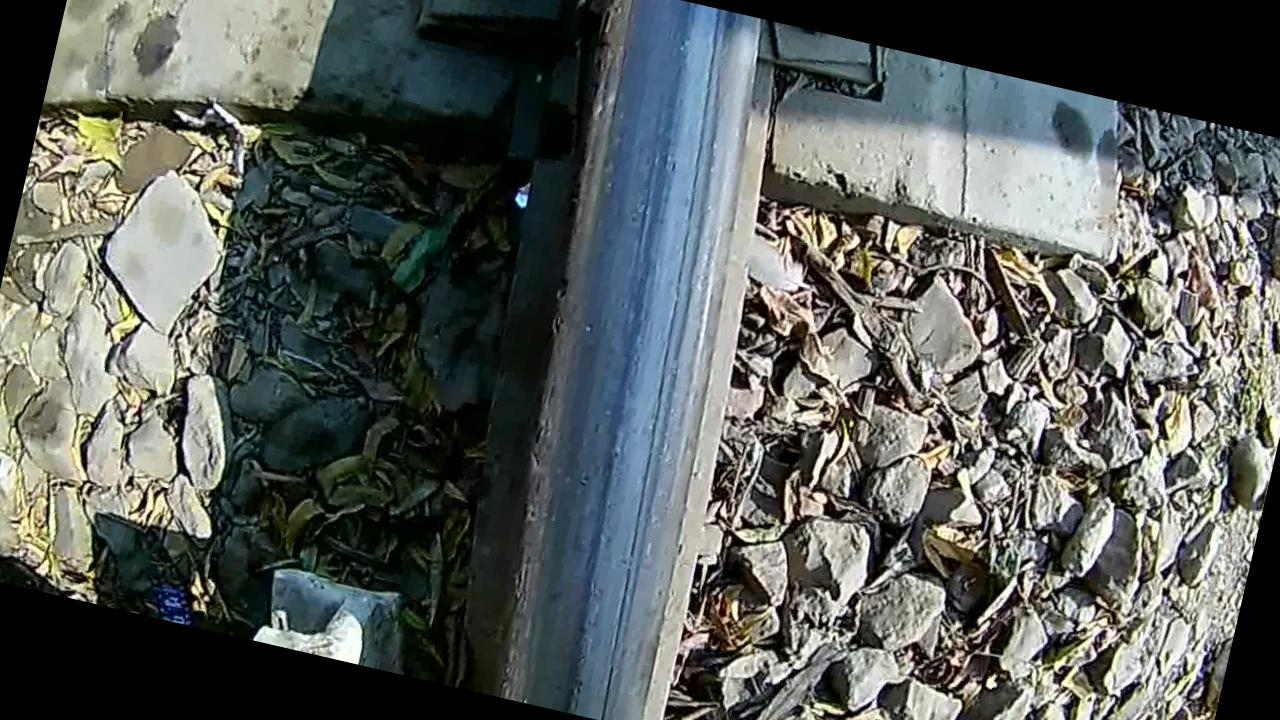clip_missing: (439, 0, 826, 720)
